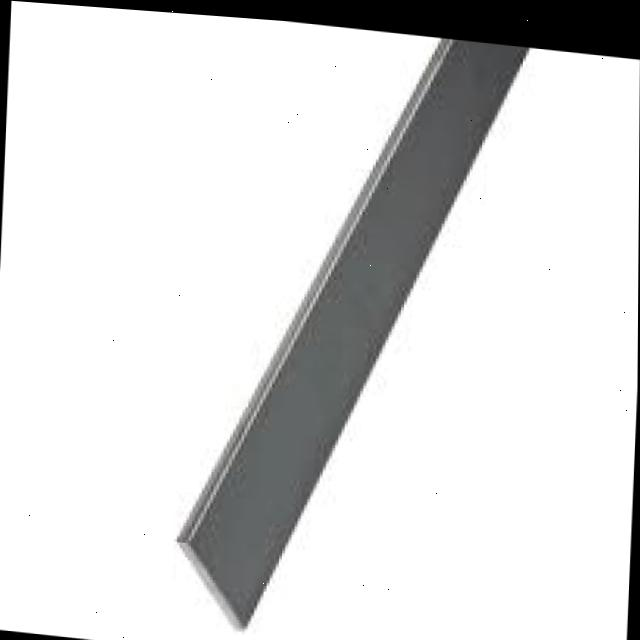Dry: (174, 37, 526, 621)
